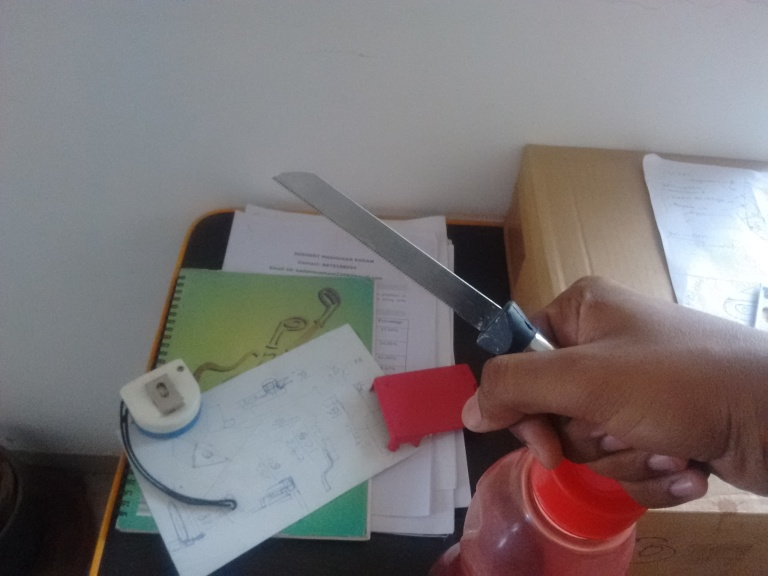knife: (272, 169, 518, 350)
